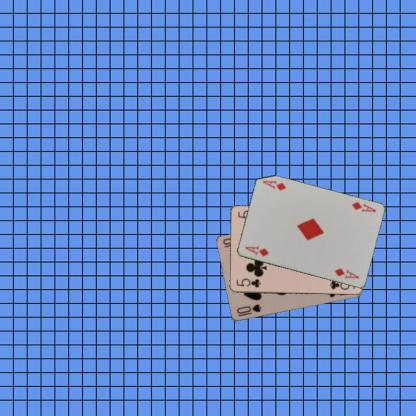10s: (234, 301, 262, 318)
5c: (234, 276, 261, 289)
Ad: (242, 243, 270, 258), (349, 199, 377, 214)
